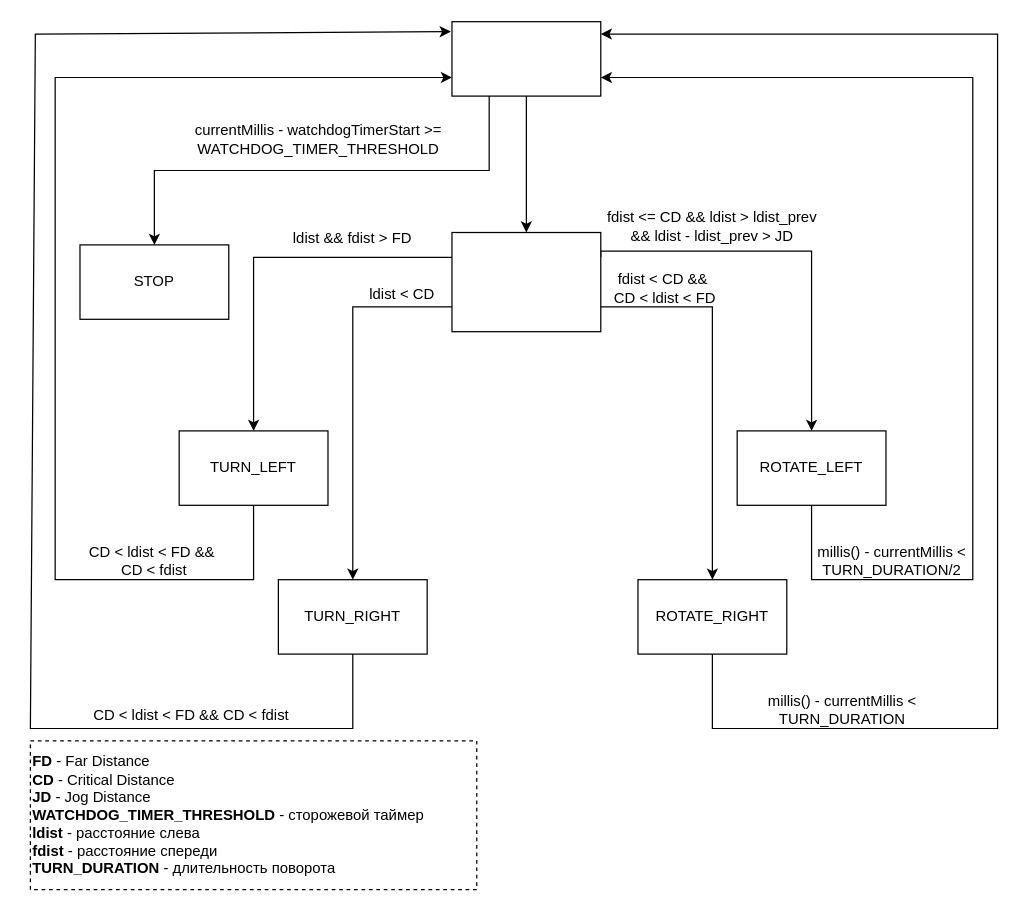
Some shapes in this 1032 by 911 pixel diagram are drawn without their labels. Here are the shapes that lost their labels. From the top down, the centre of each, then its label:
At (526,58): "FORWARD".
At (526,281): "CHOOSE".
